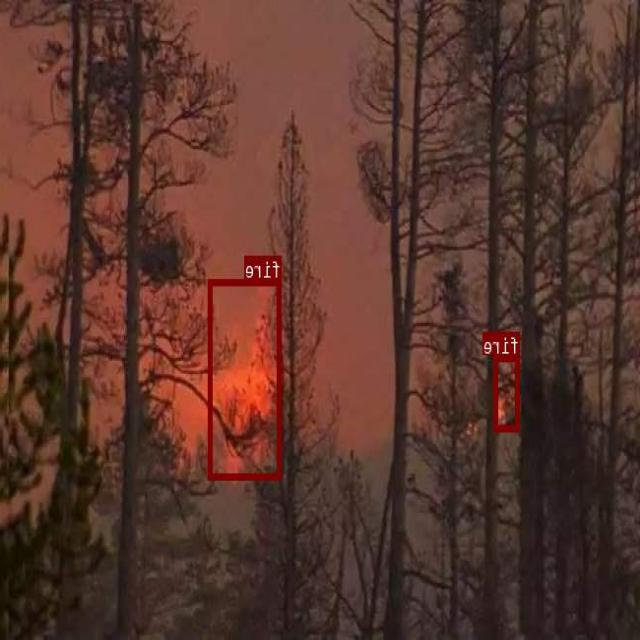fire: (210, 279, 282, 478), (495, 354, 520, 430)
